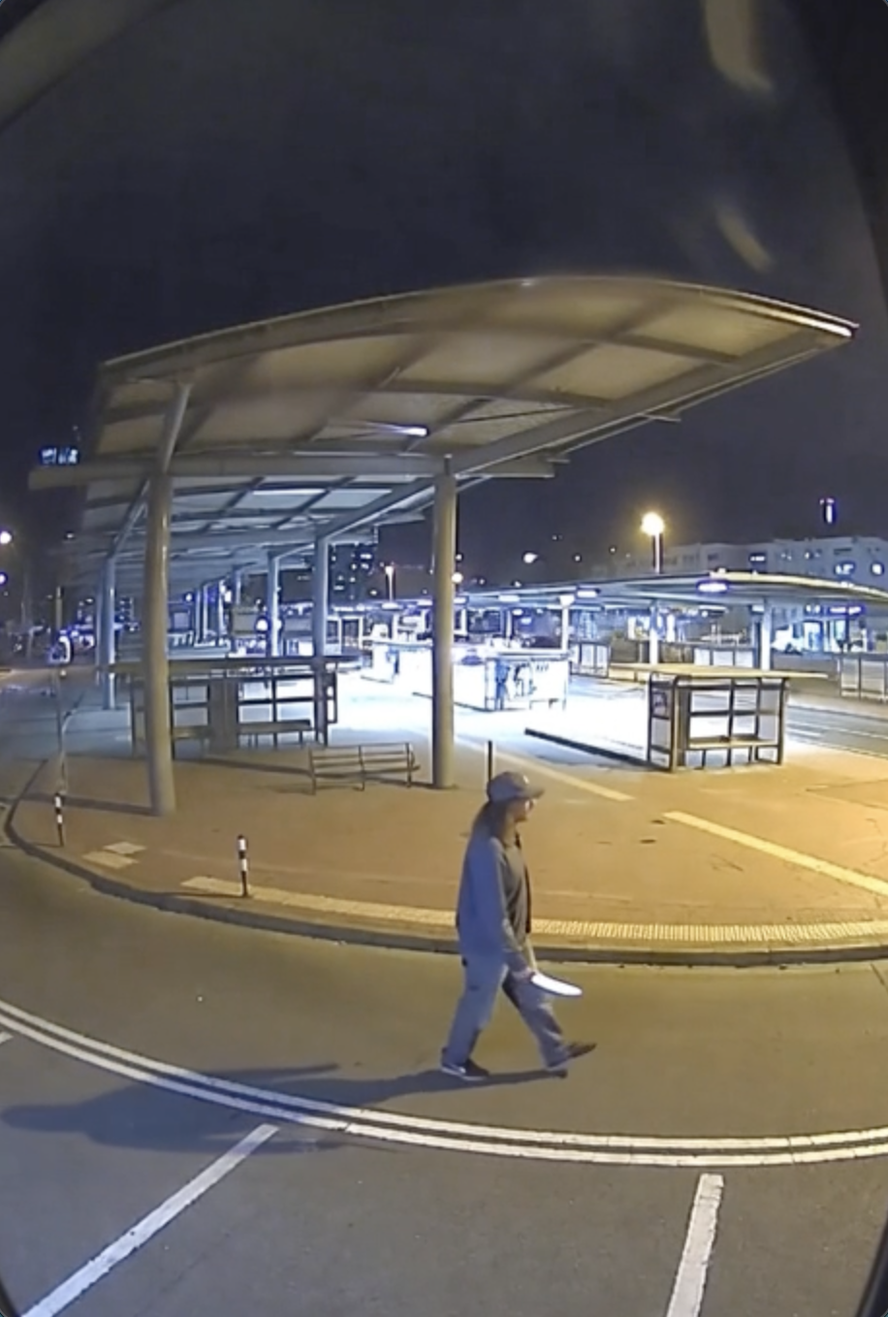Heavy Gun: (418, 771, 604, 1088)
Knife: (508, 950, 584, 1002)
